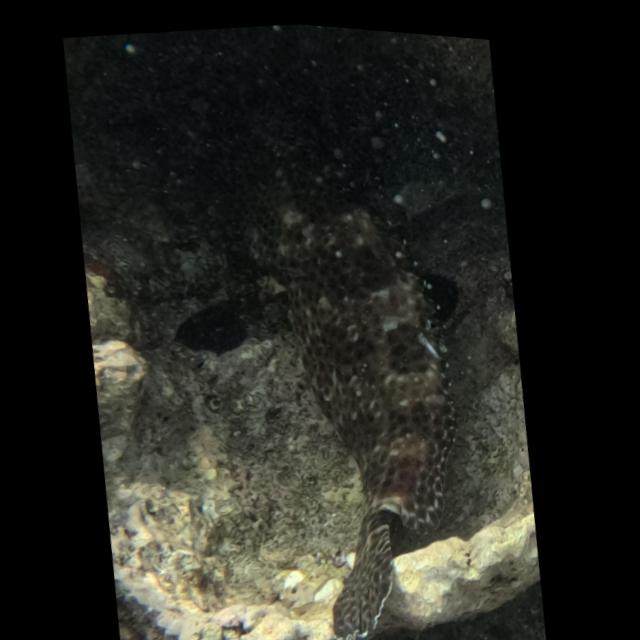Groupers: (133, 112, 515, 640)
